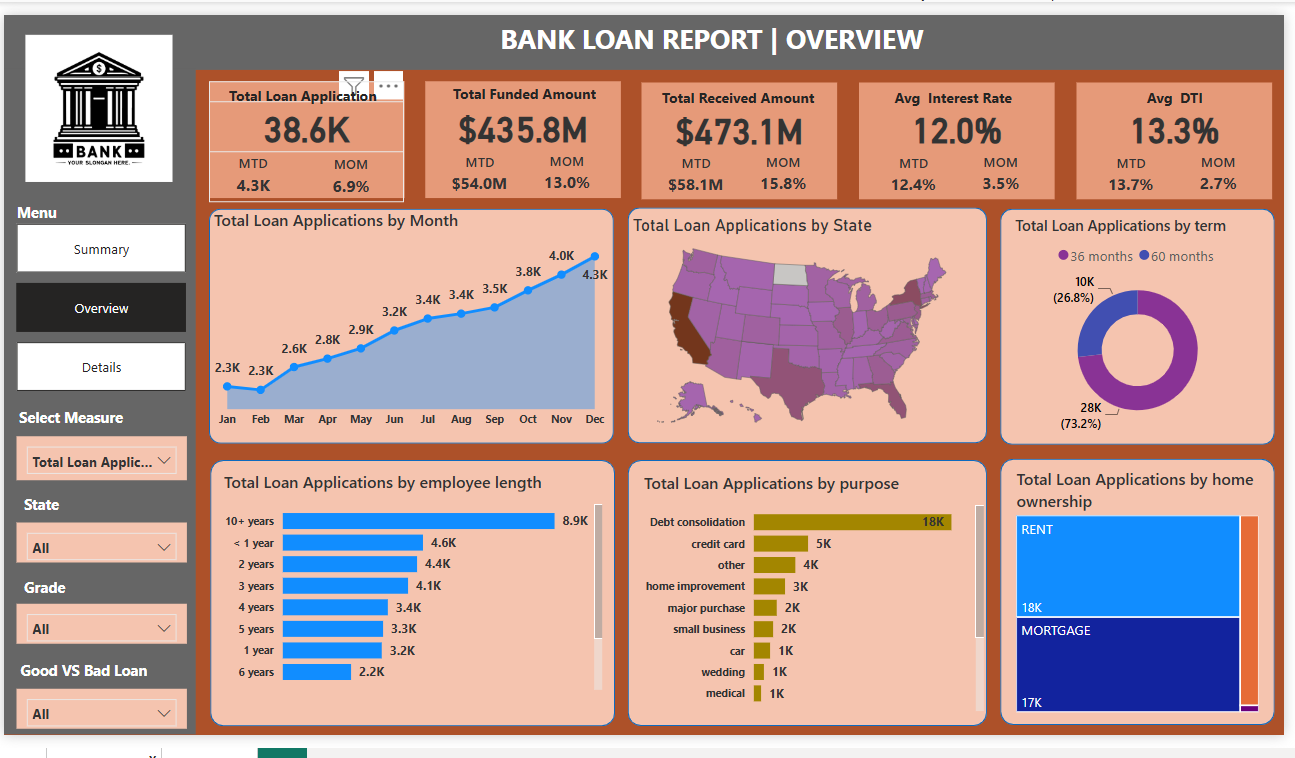

This screenshot's page, from the dashboard's own definition file:
{"tool":"powerbi","page":{"name":"Overview","canvas":[1280,720],"ordinal":1},"visuals":[{"type":"shape","box":[204.5,193.5,405,235],"z":0},{"type":"shape","box":[0,0,1280,54.9],"z":1000},{"type":"shape","box":[0,54.3,191.8,666],"z":2000},{"type":"textbox","box":[491.3,0,447.3,52.1],"z":3000},{"type":"shape","box":[204.4,65.7,195.6,116.8],"z":3000,"group":"g1"},{"type":"shape","box":[421.3,65.9,195.6,116.8],"z":3000,"group":"g2"},{"type":"shape","box":[638.3,67.2,195.6,116.8],"z":3000,"group":"g3"},{"type":"shape","box":[855.2,67.2,195.6,116.8],"z":3000,"group":"g4"},{"type":"shape","box":[1072.1,67.2,195.6,116.8],"z":3000,"group":"g5"},{"type":"card","fields":{"Values":["bank_loan_data.Total Loan Applications"]},"box":[204.4,86.1,195.6,51.1],"z":4000,"group":"g1"},{"type":"card","fields":{"Values":["bank_loan_data.Total Funded Amount"]},"box":[421.3,86.3,195.6,51.1],"z":4000,"group":"g2"},{"type":"card","fields":{"Values":["bank_loan_data.Avg Interest Rate"]},"box":[855.2,87.6,195.6,51.1],"z":4000,"group":"g4"},{"type":"card","fields":{"Values":["bank_loan_data.Avg DTI"]},"box":[1072.1,87.6,195.6,51.1],"z":4000,"group":"g5"},{"type":"card","fields":{"Values":["bank_loan_data.Total Amount Received"]},"box":[638.3,87.7,195.6,51.1],"z":4000,"group":"g3"},{"type":"textbox","box":[277.5,206.3,146,38.6],"z":4000},{"type":"textbox","box":[436,63.3,179.8,32.9],"z":5000,"group":"g2"},{"type":"group","id":"g1","title":"Group 1","box":[204.4,65.7,195.6,121.9],"z":5000},{"type":"textbox","box":[219,65.7,166.4,30.7],"z":5000,"group":"g1"},{"type":"textbox","box":[634.2,66.9,208.6,32.9],"z":5000,"group":"g3"},{"type":"textbox","box":[869.8,67.2,166.4,30.7],"z":5000,"group":"g4"},{"type":"textbox","box":[1086.7,67.2,166.4,30.7],"z":5000,"group":"g5"},{"type":"group","id":"g2","title":"Group 1","box":[421.3,63.3,195.6,120.8],"z":6000},{"type":"card","title":"MTD","fields":{"Values":["bank_loan_data.MTD Funded Amount"]},"box":[438.8,137.4,74.5,42.3],"z":6000,"group":"g2"},{"type":"card","title":"MTD","fields":{"Values":["bank_loan_data.MTD Loan Applications"]},"box":[219,138.7,58.4,48.2],"z":6000,"group":"g1"},{"type":"card","title":"MTD","fields":{"Values":["bank_loan_data.MTD Avg Int Rate"]},"box":[872.7,138.7,74.5,42.3],"z":6000,"group":"g4"},{"type":"card","title":"MTD","fields":{"Values":["bank_loan_data.MTD Avg DTI"]},"box":[1089.6,138.7,74.5,42.3],"z":6000,"group":"g5"},{"type":"card","title":"MTD","fields":{"Values":["bank_loan_data.MTD Total Amount Rececived"]},"box":[655.8,138.8,74.5,42.3],"z":6000,"group":"g3"},{"type":"group","id":"g3","title":"Group 1","box":[634.2,66.9,208.6,118.6],"z":7000},{"type":"card","title":"MOM","fields":{"Values":["bank_loan_data.MOM Total Funded Amount"]},"box":[533.7,135.9,58.4,48.2],"z":7001,"group":"g2"},{"type":"card","title":"MOM","fields":{"Values":["bank_loan_data.MOM Total Amount Received"]},"box":[750.7,137.3,58.4,48.2],"z":7001,"group":"g3"},{"type":"card","title":"MOM","fields":{"Values":["bank_loan_data.MOM Avg Int Rate"]},"box":[967.6,137.3,58.4,48.2],"z":7001,"group":"g4"},{"type":"card","title":"MOM","fields":{"Values":["bank_loan_data.MOM Avg DTI"]},"box":[1184.5,137.3,58.4,48.2],"z":7001,"group":"g5"},{"type":"card","title":"MOM","fields":{"Values":["bank_loan_data.MOM Loan Applications"]},"box":[316.6,139.3,59.1,48.3],"z":7001,"group":"g1"},{"type":"group","id":"g4","title":"Group 1","box":[855.2,67.2,195.6,118.2],"z":8000},{"type":"group","id":"g5","title":"Group 1","box":[1072.1,67.2,194.9,119.4],"z":9000},{"type":"textbox","box":[757.6,206.3,209.9,38.6],"z":10000},{"type":"slicer","fields":{"Values":["bank_loan_data.address_state"]},"box":[12.1,506.9,170.2,39.8],"z":11000},{"type":"textbox","box":[14.5,474.3,65.1,32.6],"z":12000},{"type":"slicer","fields":{"Values":["bank_loan_data.grade"]},"box":[12.1,588.3,170.2,39.8],"z":13000},{"type":"textbox","box":[14.5,557.4,85.7,31.4],"z":14000},{"type":"slicer","fields":{"Values":["bank_loan_data.Good VS Bad loan"]},"box":[12.1,673.4,170.2,39.8],"z":15000},{"type":"textbox","box":[10.9,640.6,172.5,32.6],"z":16000},{"type":"areaChart","fields":{"Y":["bank_loan_data.Total Loan Applications"],"Category":["Date Table.Month"]},"box":[204.5,193.5,404.8,227.8],"z":17000},{"type":"slicer","fields":{"Values":["Select measure.Select measure"]},"box":[12.1,421.3,170.2,43.9],"z":18000},{"type":"textbox","box":[9.7,387.3,156.8,33.8],"z":19000},{"type":"shape","box":[624.4,192.1,359.5,236],"z":20000},{"type":"shapeMap","fields":{"Value":["bank_loan_data.Total Loan Applications"],"Category":["bank_loan_data.address_state"]},"box":[624.4,200.3,348.5,222.3],"z":21000},{"type":"shape","box":[996.2,193.5,274.4,236],"z":22000},{"type":"donutChart","fields":{"Y":["bank_loan_data.Total Loan Applications"],"Category":["bank_loan_data.term"]},"box":[1005.8,200.3,255.2,220.9],"z":23000},{"type":"shape","box":[205.8,444.6,404.8,266.2],"z":24000},{"type":"barChart","fields":{"Y":["bank_loan_data.Total Loan Applications"],"Category":["bank_loan_data.emp_length"]},"box":[215.4,455.6,388.3,225],"z":25000},{"type":"shape","box":[624.4,444.6,359.5,266.2],"z":26000},{"type":"barChart","fields":{"Y":["bank_loan_data.Total Loan Applications"],"Category":["bank_loan_data.purpose"]},"box":[634.6,456,349.9,244.9],"z":27000},{"type":"shape","box":[996.2,443.2,274.4,266.2],"z":28000},{"type":"treemap","fields":{"Values":["bank_loan_data.Total Loan Applications"],"Group":["bank_loan_data.home_ownership"]},"box":[1007.2,452.8,252.5,249.7],"z":29000},{"type":"pageNavigator","box":[12.1,208.7,170.1,168.9],"z":30000},{"type":"image","box":[3.6,14.5,182.2,156.8],"z":31000},{"type":"textbox","box":[3.6,182.2,156.8,33.8],"z":31001}]}

Visuals, with their boxes on the page's 1280x720 design canvas (x1, y1, x2, y2). These are canvas units, not pixel positions in the 1295x758 screenshot, which may show the page scaled, cropped or inside an application window:
shape: crop(204, 194, 610, 428)
shape: crop(0, 0, 1280, 55)
shape: crop(0, 54, 192, 720)
textbox: crop(491, 0, 939, 52)
shape: crop(204, 66, 400, 182)
shape: crop(421, 66, 617, 183)
shape: crop(638, 67, 834, 184)
shape: crop(855, 67, 1051, 184)
shape: crop(1072, 67, 1268, 184)
card - bank_loan_data.Total Loan Applications: crop(204, 86, 400, 137)
card - bank_loan_data.Total Funded Amount: crop(421, 86, 617, 137)
card - bank_loan_data.Avg Interest Rate: crop(855, 88, 1051, 139)
card - bank_loan_data.Avg DTI: crop(1072, 88, 1268, 139)
card - bank_loan_data.Total Amount Received: crop(638, 88, 834, 139)
textbox: crop(278, 206, 424, 245)
textbox: crop(436, 63, 616, 96)
"Group 1" group: crop(204, 66, 400, 188)
textbox: crop(219, 66, 385, 96)
textbox: crop(634, 67, 843, 100)
textbox: crop(870, 67, 1036, 98)
textbox: crop(1087, 67, 1253, 98)
"Group 1" group: crop(421, 63, 617, 184)
"MTD" card: crop(439, 137, 513, 180)
"MTD" card: crop(219, 139, 277, 187)
"MTD" card: crop(873, 139, 947, 181)
"MTD" card: crop(1090, 139, 1164, 181)
"MTD" card: crop(656, 139, 730, 181)
"Group 1" group: crop(634, 67, 843, 186)
"MOM" card: crop(534, 136, 592, 184)
"MOM" card: crop(751, 137, 809, 186)
"MOM" card: crop(968, 137, 1026, 186)
"MOM" card: crop(1184, 137, 1243, 186)
"MOM" card: crop(317, 139, 376, 188)
"Group 1" group: crop(855, 67, 1051, 185)
"Group 1" group: crop(1072, 67, 1267, 187)
textbox: crop(758, 206, 968, 245)
slicer - bank_loan_data.address_state: crop(12, 507, 182, 547)
textbox: crop(14, 474, 80, 507)
slicer - bank_loan_data.grade: crop(12, 588, 182, 628)
textbox: crop(14, 557, 100, 589)
slicer - bank_loan_data.Good VS Bad loan: crop(12, 673, 182, 713)
textbox: crop(11, 641, 183, 673)
areaChart - bank_loan_data.Total Loan Applications x Date Table.Month: crop(204, 194, 609, 421)
slicer - Select measure.Select measure: crop(12, 421, 182, 465)
textbox: crop(10, 387, 166, 421)
shape: crop(624, 192, 984, 428)
shapeMap - bank_loan_data.Total Loan Applications x bank_loan_data.address_state: crop(624, 200, 973, 423)
shape: crop(996, 194, 1271, 430)
donutChart - bank_loan_data.Total Loan Applications x bank_loan_data.term: crop(1006, 200, 1261, 421)
shape: crop(206, 445, 611, 711)
barChart - bank_loan_data.Total Loan Applications x bank_loan_data.emp_length: crop(215, 456, 604, 681)
shape: crop(624, 445, 984, 711)
barChart - bank_loan_data.Total Loan Applications x bank_loan_data.purpose: crop(635, 456, 984, 701)
shape: crop(996, 443, 1271, 709)
treemap - bank_loan_data.Total Loan Applications x bank_loan_data.home_ownership: crop(1007, 453, 1260, 702)
pageNavigator: crop(12, 209, 182, 378)
image: crop(4, 14, 186, 171)
textbox: crop(4, 182, 160, 216)
